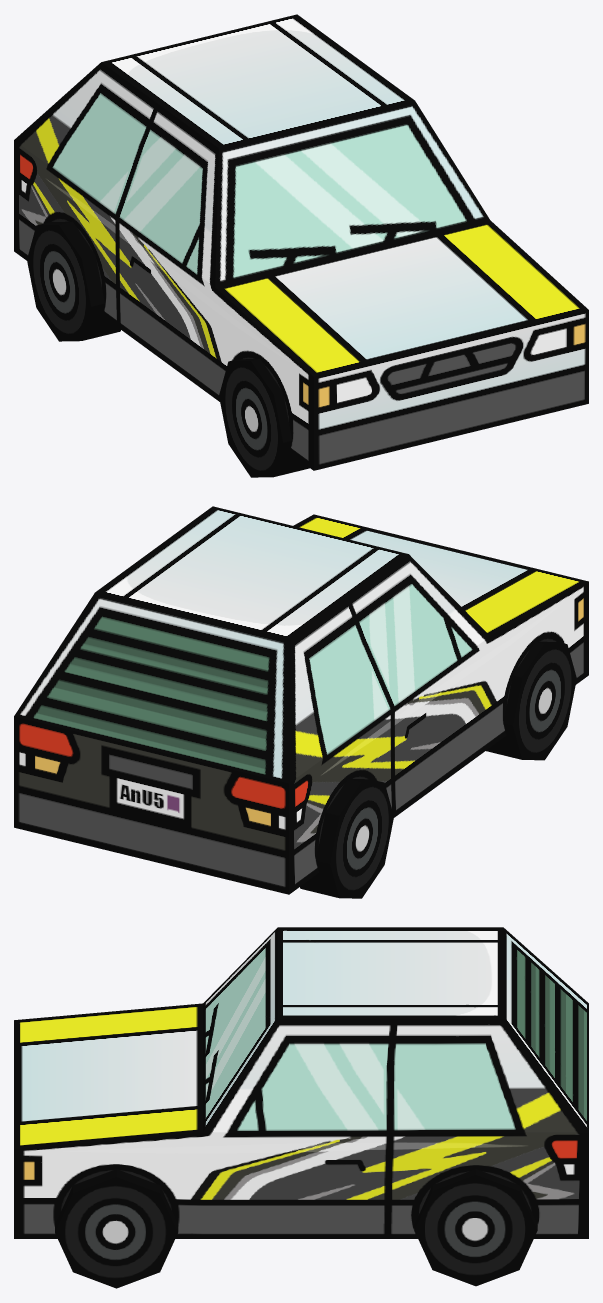
The model's file is car2_13.gltf.
3 renders of one model, top to bottom at view 1: azimuth 30°, elevation 25°; view 2: azimuth 150°, elevation 25°; view 3: azimuth 270°, elevation 25°, orthographic. The views are drawn at different scales.
Visible parts, largest first — view 1: Cube; view 2: Cube; view 3: Cube.
Part boxes in pixels (bbox=[...]): Cube: bbox=[14, 14, 588, 477]; Cube: bbox=[14, 506, 588, 898]; Cube: bbox=[14, 927, 588, 1288].
Size of the model in its own units: 2.83 by 2.25 by 4.81.
Materials: 1 (1 with a texture image).
